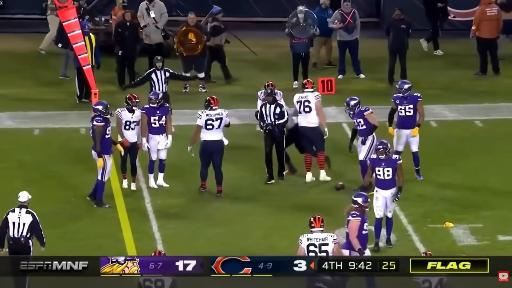Helmet: (351, 192, 370, 211), (93, 101, 111, 117), (376, 140, 390, 158), (309, 215, 324, 231), (345, 97, 360, 113), (125, 94, 139, 110), (397, 80, 411, 95), (148, 91, 162, 106), (204, 96, 218, 110), (302, 79, 314, 91), (264, 82, 275, 90), (152, 250, 165, 255), (422, 252, 432, 256)
Jersey: (369, 155, 402, 190), (392, 93, 422, 129), (342, 212, 368, 251), (197, 109, 229, 140), (294, 92, 321, 126), (141, 104, 170, 135), (299, 233, 338, 255), (115, 108, 140, 142), (91, 115, 112, 154), (350, 107, 372, 137), (138, 276, 177, 287), (413, 276, 447, 287), (257, 90, 265, 109)
Player: (361, 140, 403, 252), (188, 96, 230, 196), (293, 79, 330, 182), (88, 101, 123, 207), (388, 80, 424, 179), (141, 92, 172, 187), (345, 97, 378, 178), (115, 94, 140, 190), (297, 215, 342, 256), (342, 192, 370, 255), (256, 82, 285, 114), (285, 117, 304, 154), (138, 276, 177, 287), (413, 275, 447, 287)
